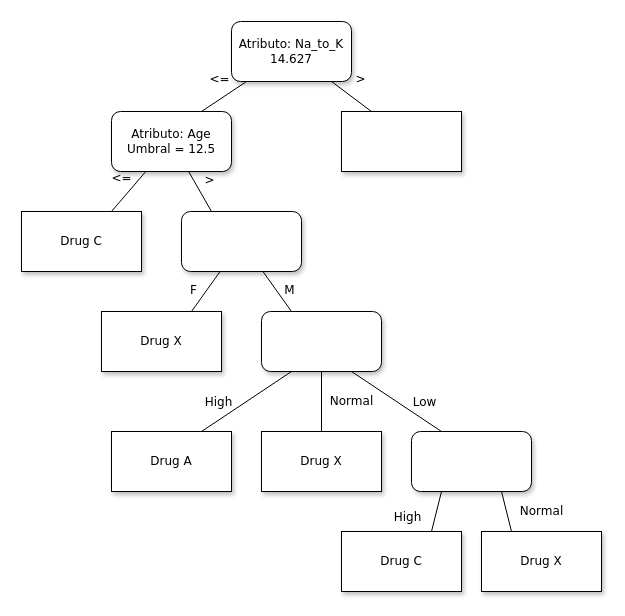
This 625x616 diagram has some shape labels left out. The centre of each missing label's shape, as x and y in pixels:
"Atributo: Blood Presure" belongs at [322,342].
"Atributo: Colesterol" belongs at [472,462].
"Atributo: Sex" belongs at [242,242].
"Drug Y" belongs at [402,142].
